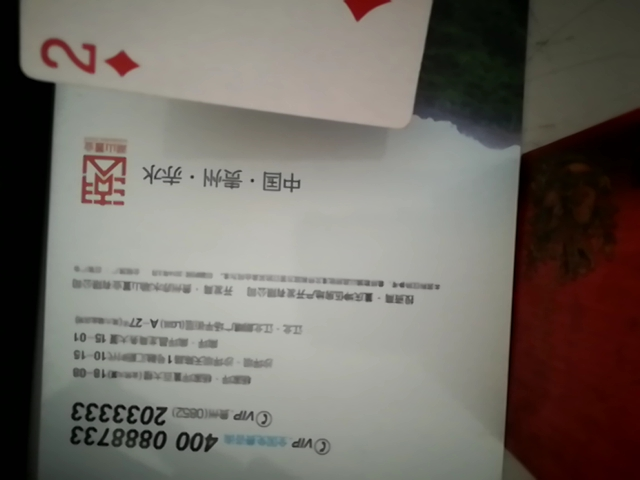fk 2: (19, 0, 469, 128)
